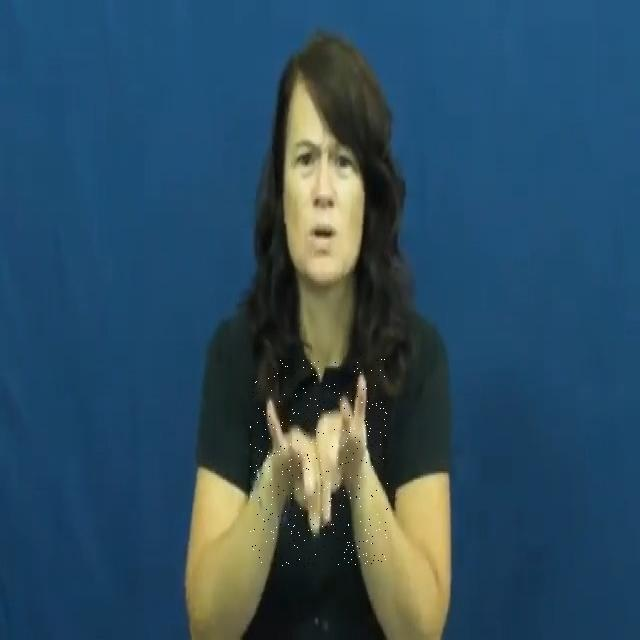urgent: (250, 360, 388, 568)
